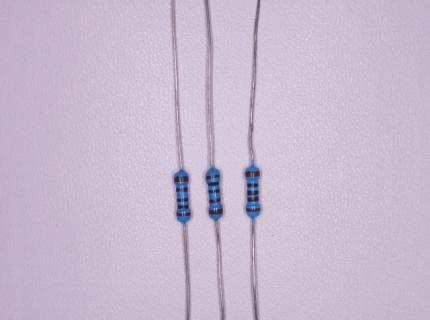Black band: (207, 181, 219, 187), (209, 198, 221, 203), (247, 190, 259, 195), (247, 197, 259, 202), (209, 189, 220, 194), (176, 188, 188, 192), (177, 205, 189, 209), (247, 183, 259, 187), (177, 198, 188, 202)
Brown band: (245, 171, 261, 177), (205, 174, 221, 180), (174, 176, 189, 182), (208, 208, 223, 214), (245, 207, 260, 212), (176, 212, 191, 217)
